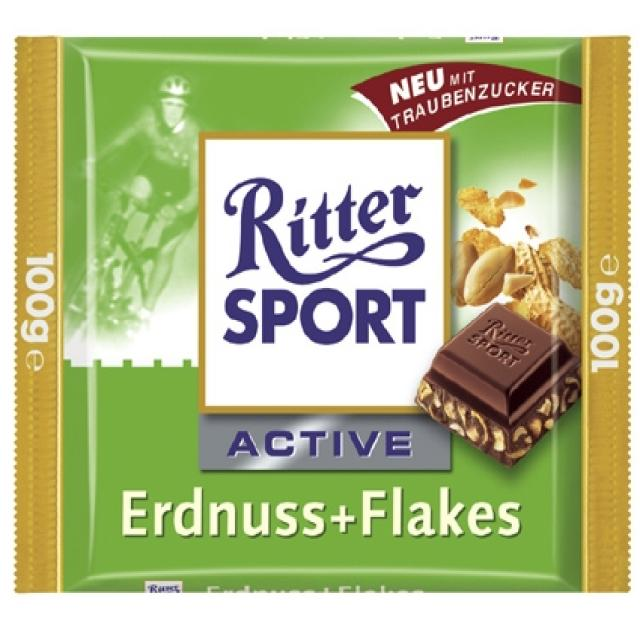rittersport: (197, 131, 456, 422)
